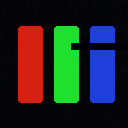3 line_h: (71, 43, 127, 49)
